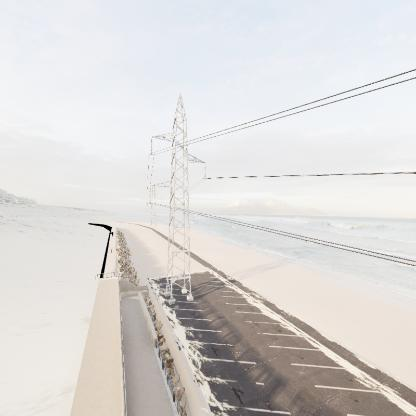tower: (145, 87, 208, 311)
